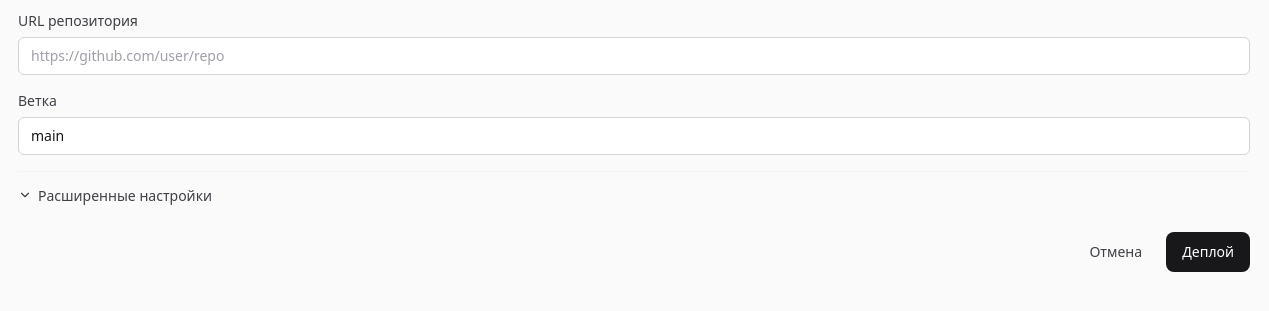
Scenario: DeployForm › shows validation feedback for an unsupported repository
This screenshot has width=1269, height=311.
Type "https://example.com/acme/app" into the field labelled "URL репозитория" at {"x": 634, "y": 56}, box [18, 37, 1250, 75]
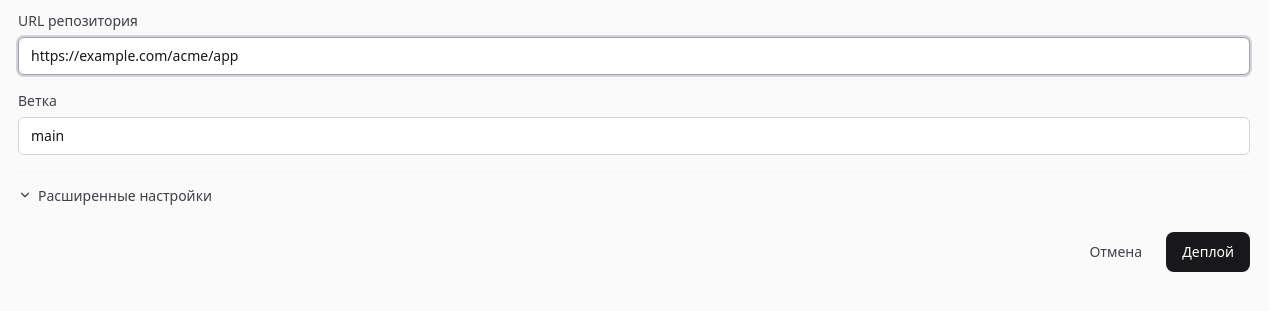
Click the button "Деплой" at {"x": 1208, "y": 252}, box [1166, 232, 1250, 272]
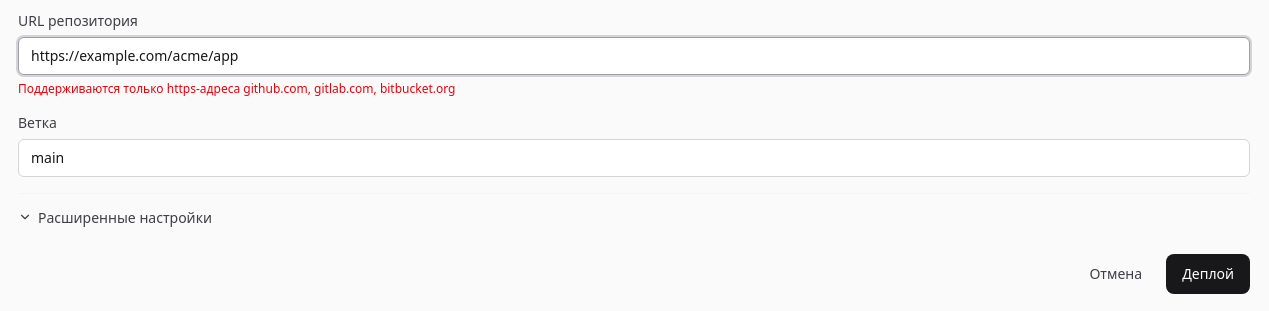
Result: the text "Поддерживаются только https-адреса github.com, gitlab.com, bitbucket.org" is shown at [18, 80, 456, 97]
